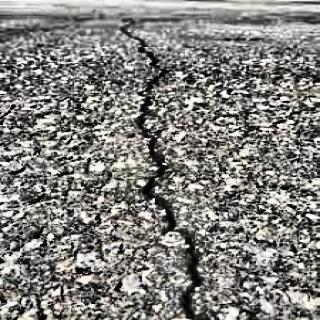crack: (115, 16, 206, 320)
